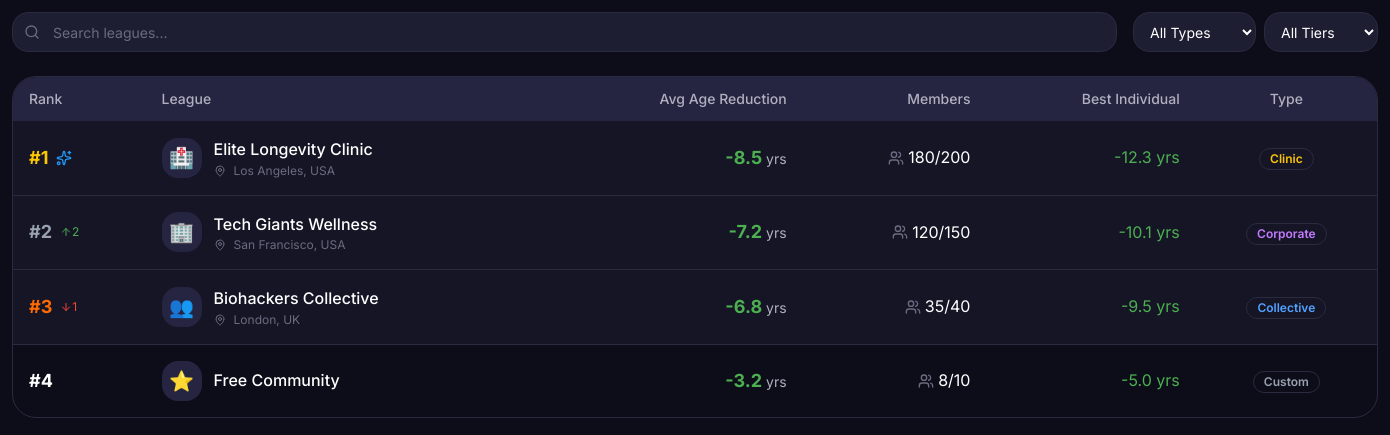
Test: LeagueLeaderboardTable › Filters › filters by search term
Type "Elite" into the field with placeholder "Search leagues..." at (564, 32), box [12,12,1117,52]
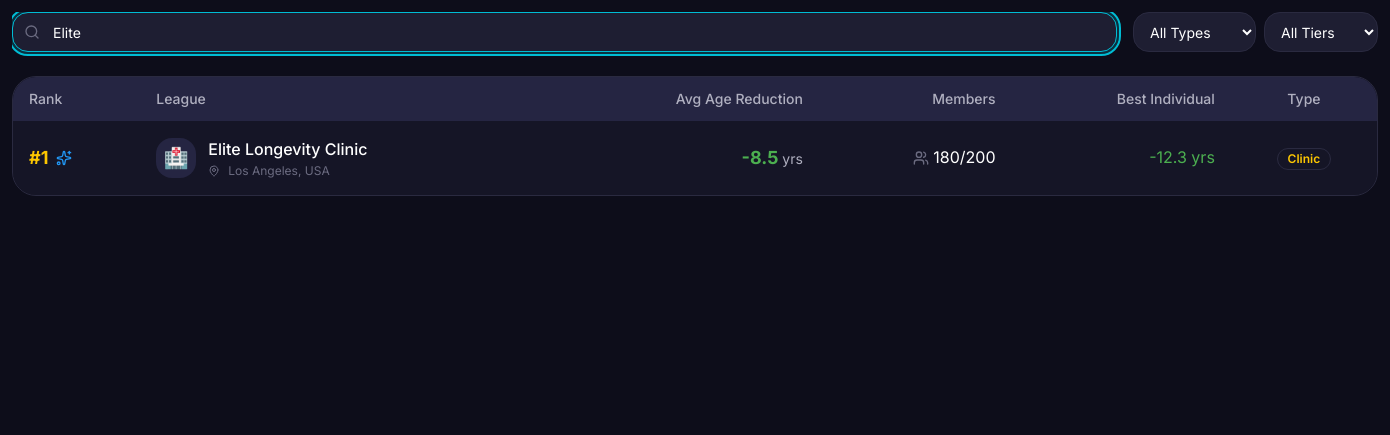
Expected: the text "Elite Longevity Clinic" is shown, [208,137,368,163]
Expected: the text "Tech Giants Wellness" is gone
Expected: the text "Biohackers Collective" is gone
